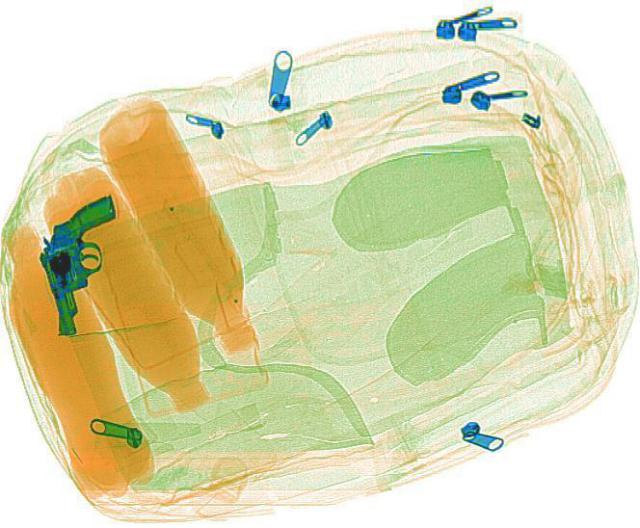Gun: (21, 190, 149, 340)
